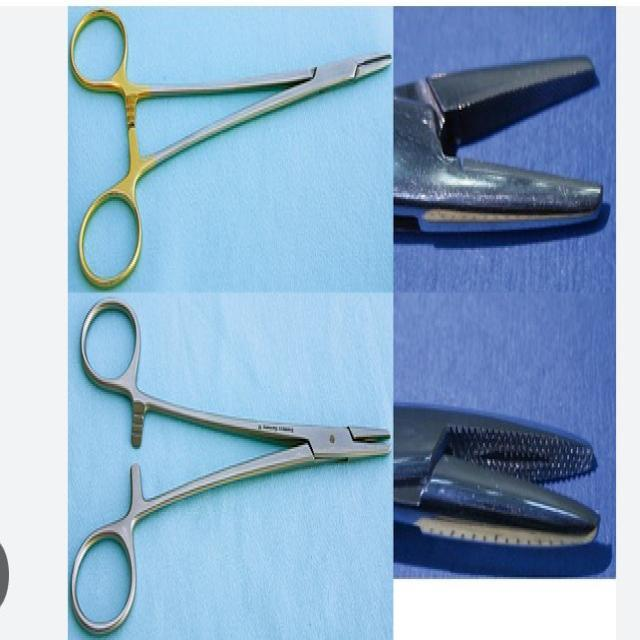Needle Holder: (68, 296, 392, 634), (69, 3, 394, 290)
